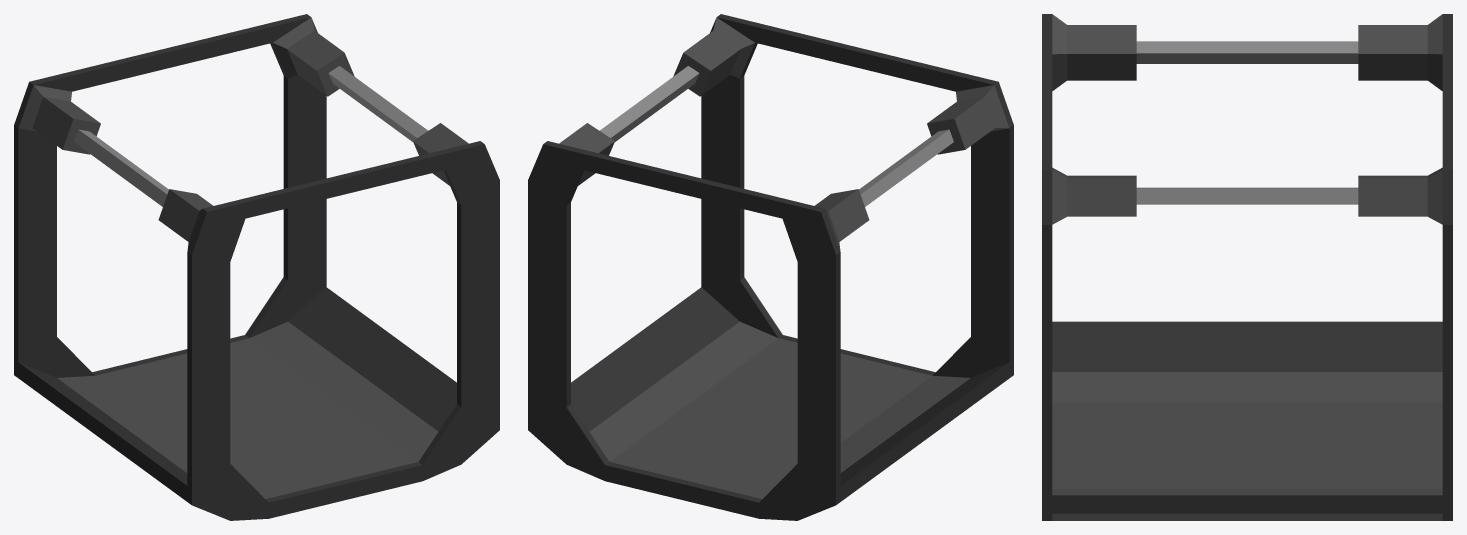
File: Tile_1.fbx
3 views of the same model, side by side, from view 1: azimuth 30°, elevation 25°; view 2: azimuth 150°, elevation 25°; view 3: azimuth 270°, elevation 25° (orthographic). The views are drawn at different scales.
Parts seen in each view (by area): view 1: Tile1; view 2: Tile1; view 3: Tile1.
Part boxes in pixels (x1=…): Tile1: x1=14, y1=14, x2=499, y2=520; Tile1: x1=528, y1=14, x2=1013, y2=520; Tile1: x1=1042, y1=14, x2=1452, y2=520.
Size of the model in its own units: 200 by 200 by 200.
